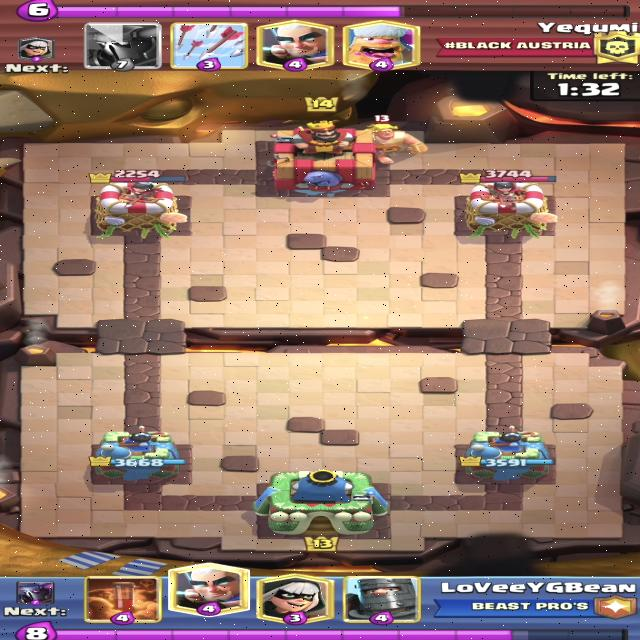Enemy-GoldenKnight: (353, 114, 429, 165)
